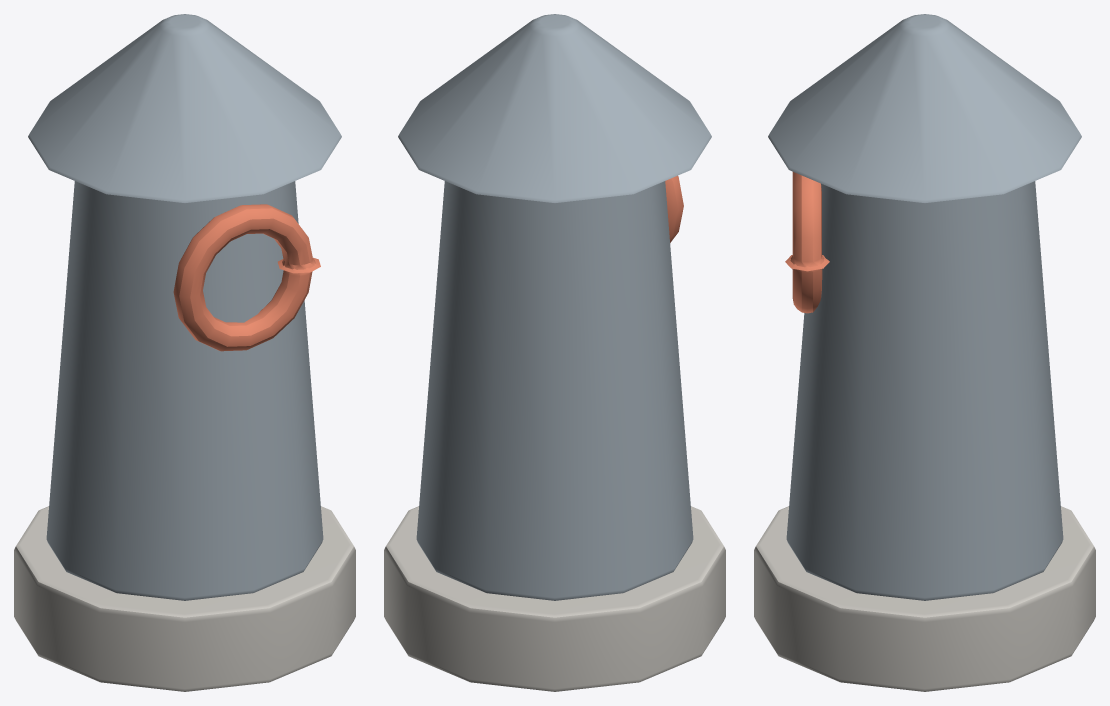
The model's file is bollard.glb.
3 renders of one model, left to right at view 1: azimuth 30°, elevation 25°; view 2: azimuth 150°, elevation 25°; view 3: azimuth 270°, elevation 25°, orthographic.
Visible parts, largest first — view 1: bollard; view 2: bollard; view 3: bollard.
Boxes of the visible parts, x1=… form: bollard: x1=14, y1=14, x2=355, y2=691; bollard: x1=384, y1=14, x2=725, y2=691; bollard: x1=754, y1=14, x2=1095, y2=691.
Size of the model in its own units: 0.32 by 0.62 by 0.32.
